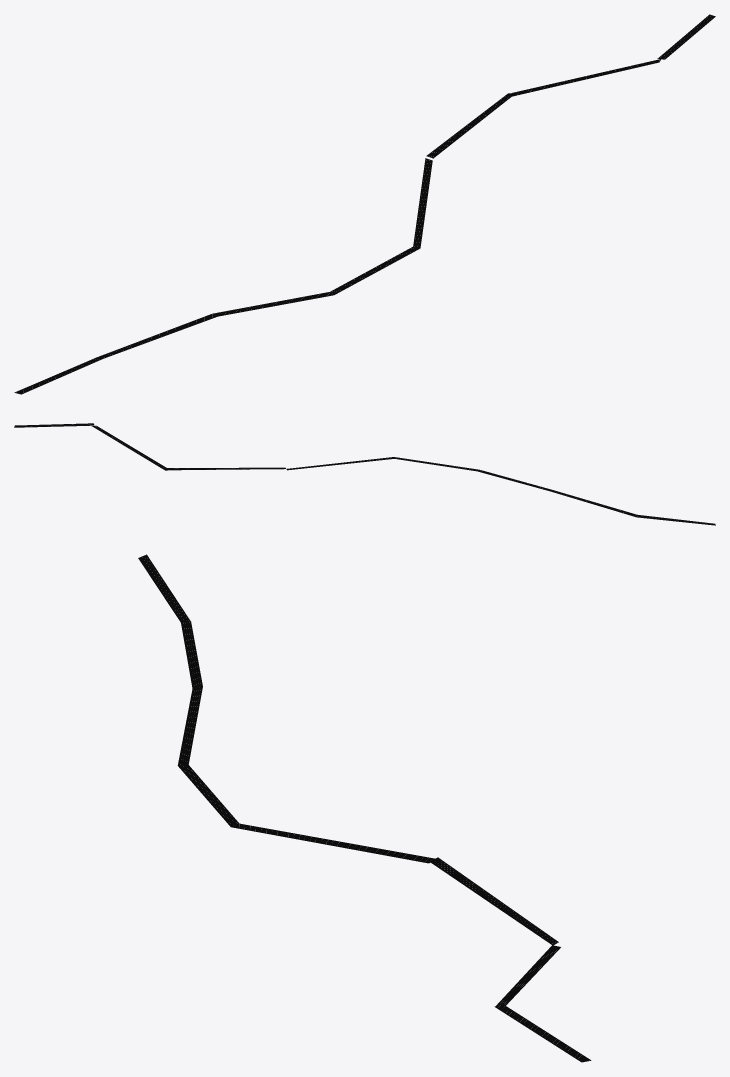
The model's file is cn_wires1.obj.
The picture shows the model from 3 angles, top to bottom: view 1: azimuth 30°, elevation 25°; view 2: azimuth 150°, elevation 25°; view 3: azimuth 270°, elevation 25°; orthographic projection. The views are drawn at different scales.
Visible parts, largest first — view 1: cn_wires1; view 2: cn_wires1; view 3: cn_wires1.
Boxes of the visible parts, x1=… form: cn_wires1: x1=14, y1=14, x2=715, y2=394; cn_wires1: x1=14, y1=423, x2=715, y2=525; cn_wires1: x1=138, y1=554, x2=591, y2=1062.
Size of the model in its own units: 243 by 13.97 by 80.69.
Materials: 1 (1 with a texture image).
